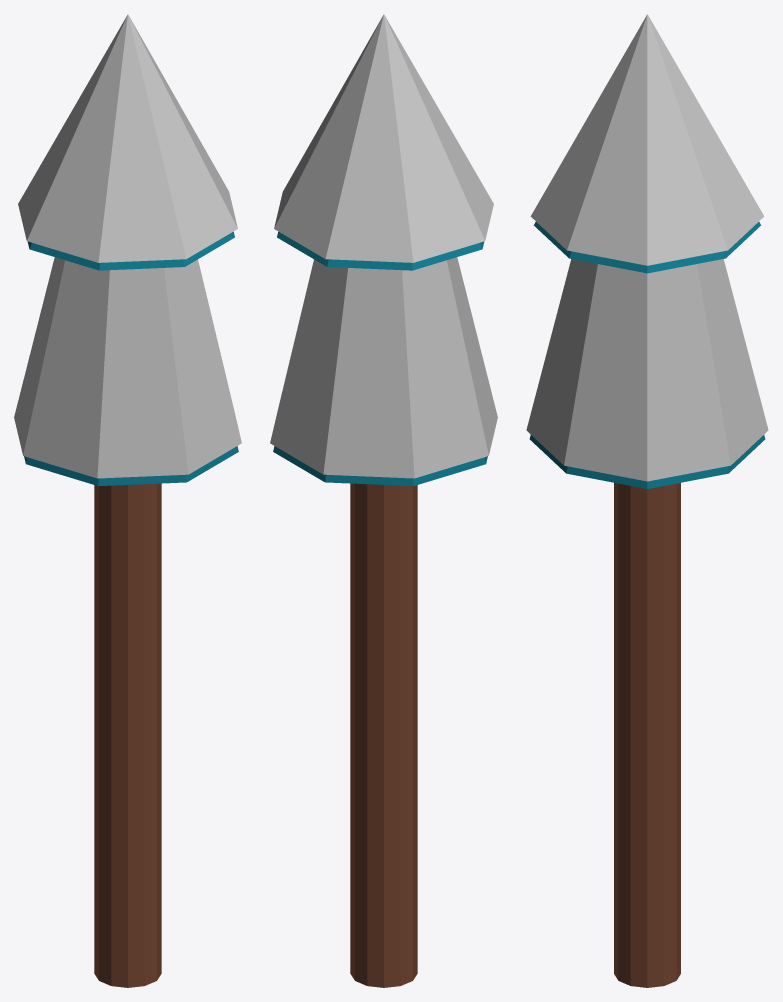
File: Tree_21_winter_blue_vc.fbx
3 views of the same model, side by side, from view 1: azimuth 30°, elevation 25°; view 2: azimuth 150°, elevation 25°; view 3: azimuth 270°, elevation 25° (orthographic).
Visible parts, largest first — view 1: Tree_21_winter_blue_vc; view 2: Tree_21_winter_blue_vc; view 3: Tree_21_winter_blue_vc.
Boxes of the visible parts, box(x1,y1,x2,y2) form: Tree_21_winter_blue_vc: box(14, 14, 241, 987); Tree_21_winter_blue_vc: box(270, 14, 497, 987); Tree_21_winter_blue_vc: box(526, 14, 768, 987).
Size of the model in its own units: 80.03 by 350 by 80.03.
